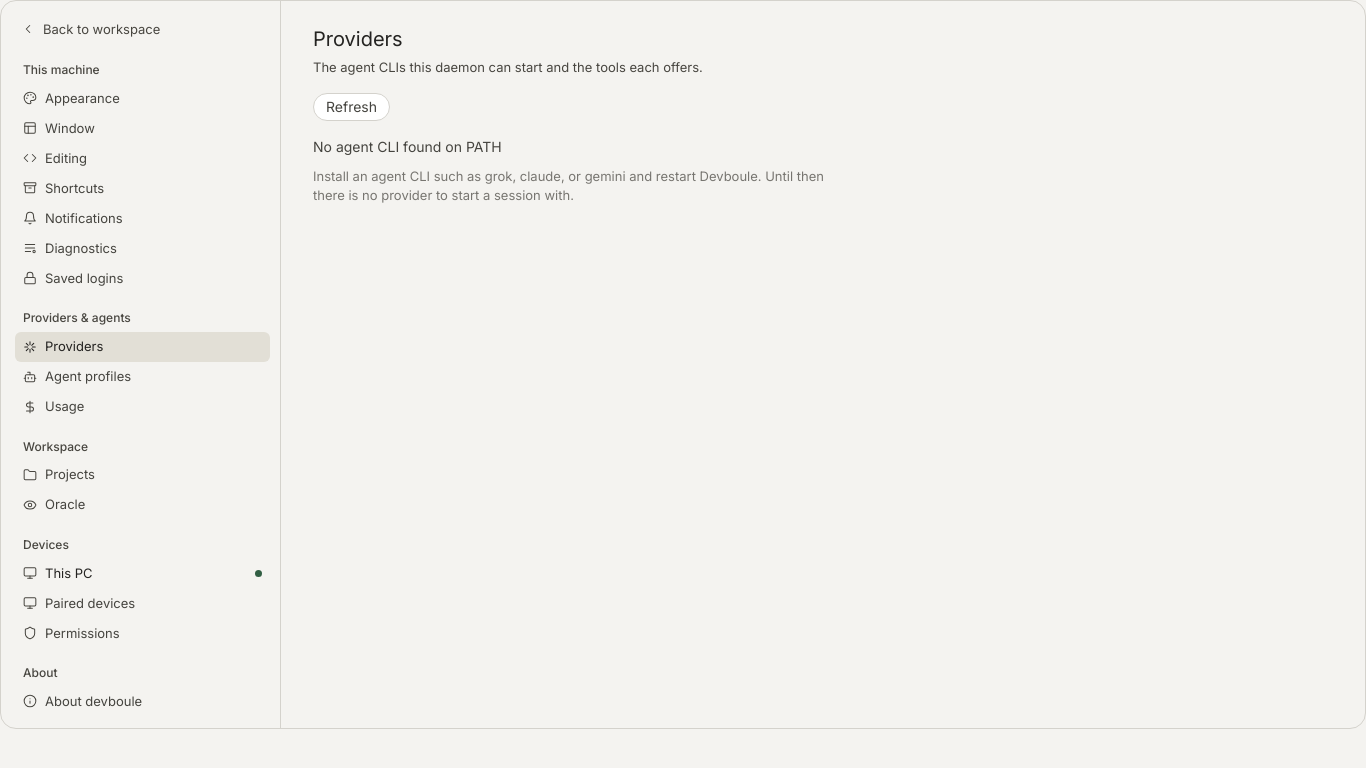
Test: DelegationSetting - the switch beside the profiles › renders beside the profiles on the Agent profiles page - one consent surface
The width and height of the screenshot is (1366, 768).
Click the button "Agent profiles".
click(142, 377)  # box [15,362,270,392]
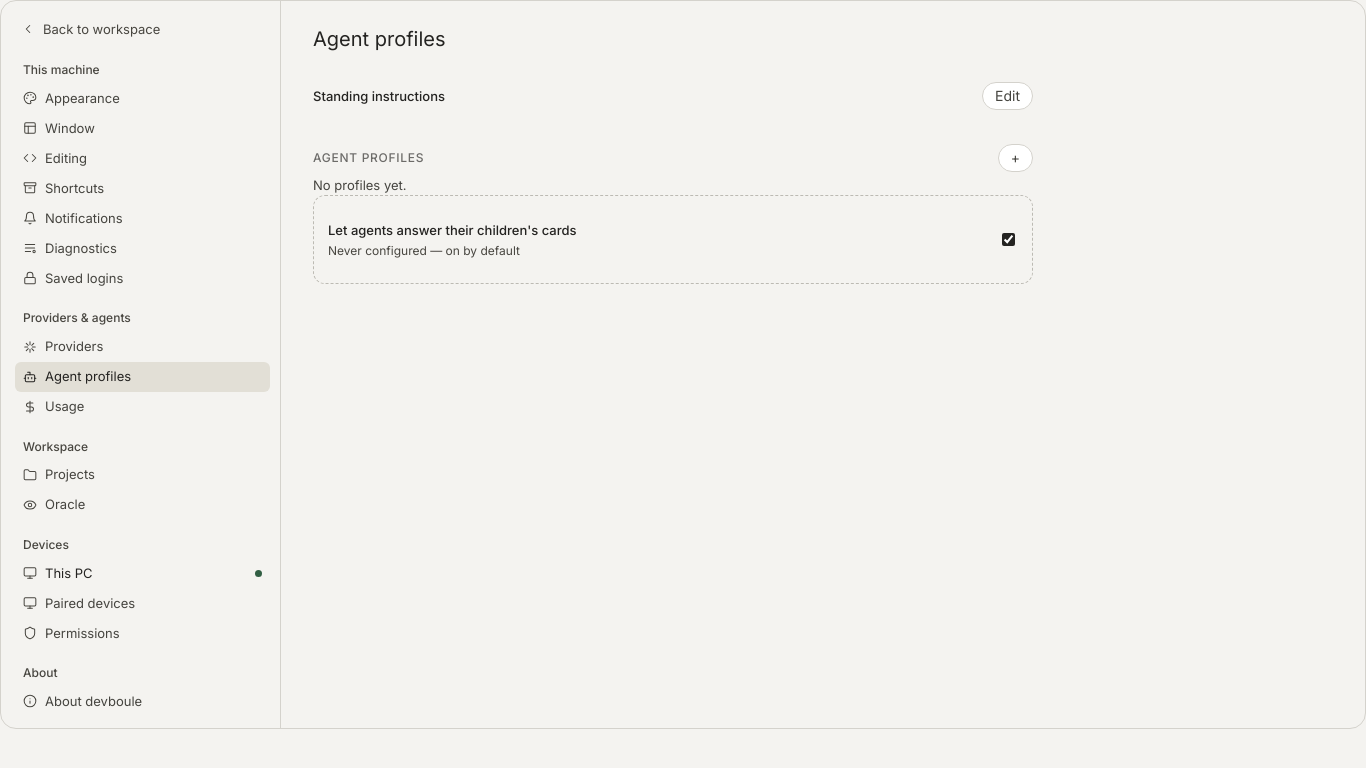
Result: the element with id "settings-panel-agents" is shown at [313,70,1033,284]
Result: the element with class "agent-delegation" is shown at [313,195,1033,284]
